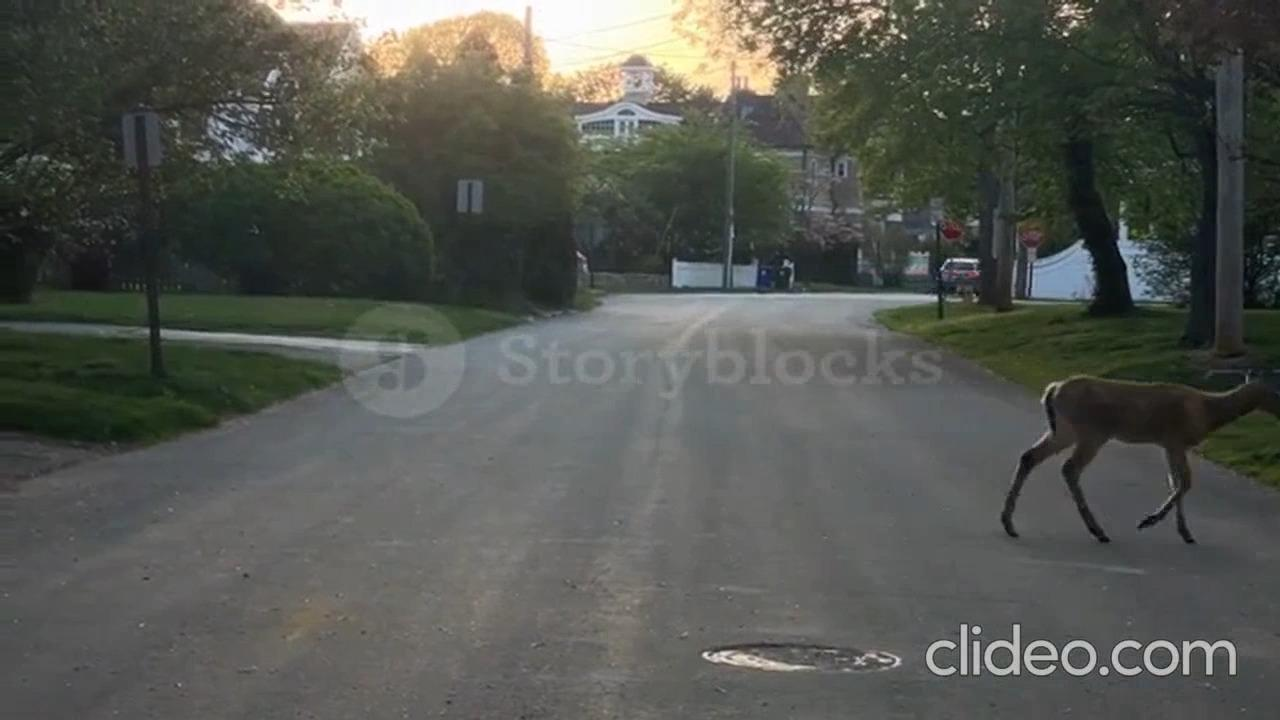deer: (994, 362, 1280, 551)
